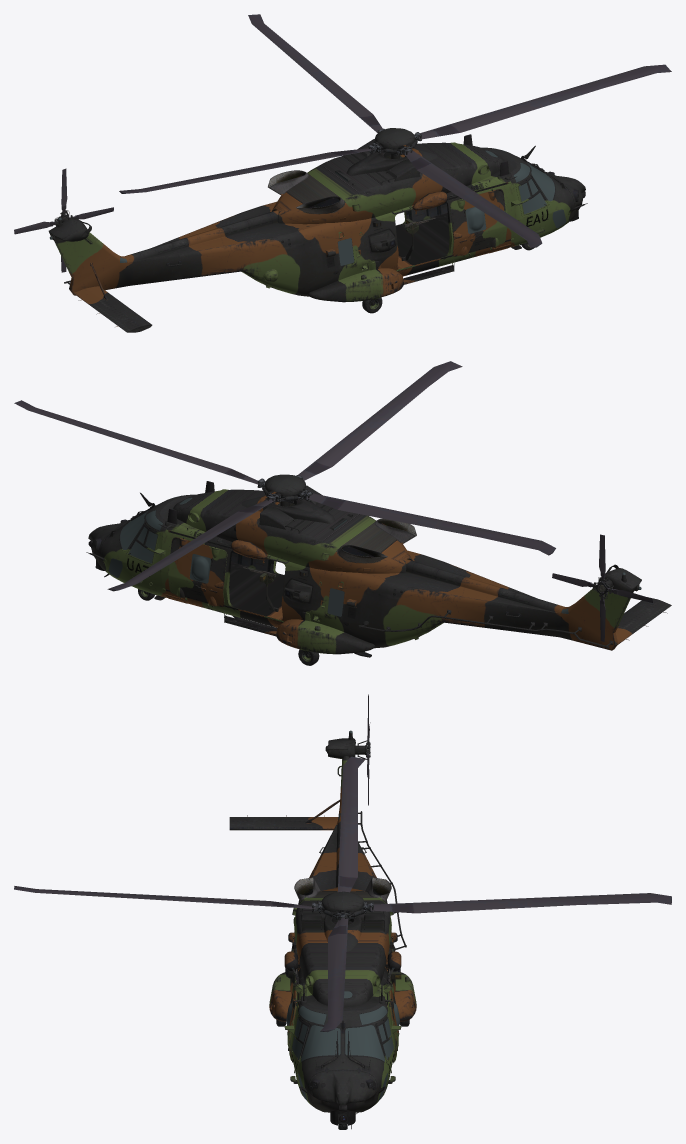
File: nh90_caiman_door_gun__french_army_warno_mod-maximum-compressed.glb
3 renders of one model, top to bottom at view 1: azimuth 30°, elevation 25°; view 2: azimuth 150°, elevation 25°; view 3: azimuth 270°, elevation 25°, orthographic. The views are drawn at different scales.
Parts seen in each view (by area): view 1: Chassis_41, Helice_Ls_1_3, Doorr_11, Window_40, Bloc_Moteur_1_4, Helice_Ls_2_6; view 2: Chassis_41, Helice_Ls_1_3, Doorl_10, Window_40, Bloc_Moteur_1_4, Helice_Ls_2_6; view 3: Chassis_41, Helice_Ls_1_3, Window_40, Bloc_Moteur_1_4.
Boxes of the visible parts, left/top/right/bottom form: Chassis_41: left=48, top=134, right=587, bottom=332; Helice_Ls_1_3: left=119, top=14, right=671, bottom=248; Doorr_11: left=450, top=189, right=507, bottom=256; Window_40: left=49, top=149, right=566, bottom=265; Bloc_Moteur_1_4: left=368, top=128, right=421, bottom=158; Helice_Ls_2_6: left=14, top=168, right=113, bottom=272; Chassis_41: left=86, top=481, right=671, bottom=657; Helice_Ls_1_3: left=14, top=361, right=555, bottom=591; Doorl_10: left=168, top=537, right=227, bottom=607; Window_40: left=108, top=495, right=641, bottom=616; Bloc_Moteur_1_4: left=257, top=474, right=312, bottom=506; Helice_Ls_2_6: left=552, top=534, right=652, bottom=641; Chassis_41: left=229, top=732, right=416, bottom=1129; Helice_Ls_1_3: left=14, top=756, right=671, bottom=1032; Window_40: left=292, top=730, right=393, bottom=1100; Bloc_Moteur_1_4: left=311, top=891, right=373, bottom=920.
Size of the model in its own units: 20.91 by 5.62 by 17.54.
5 materials, 4 textured.
